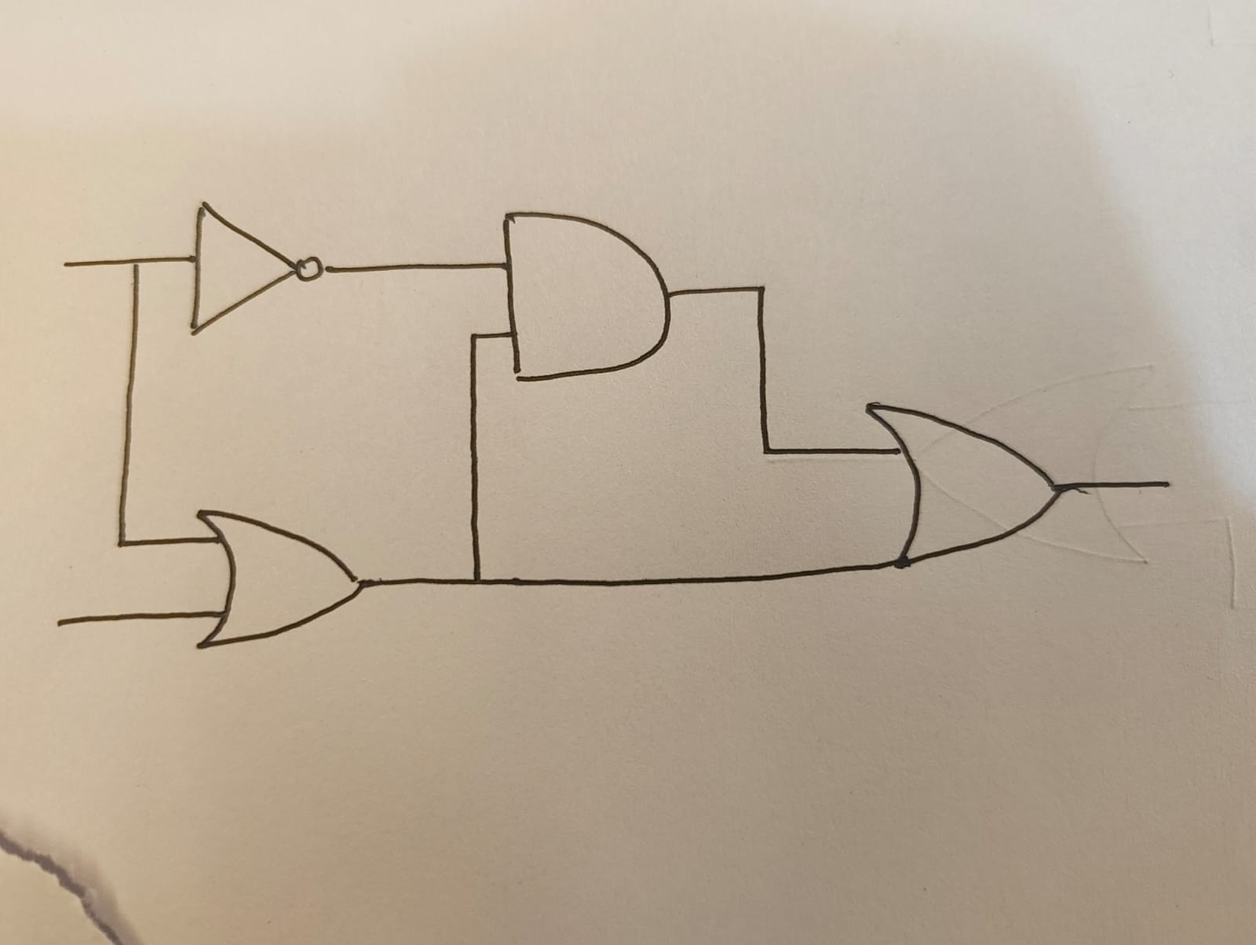and gate: (502, 203, 685, 401)
not gate: (182, 195, 333, 352)
or gate: (853, 399, 1085, 574), (184, 504, 389, 660)
